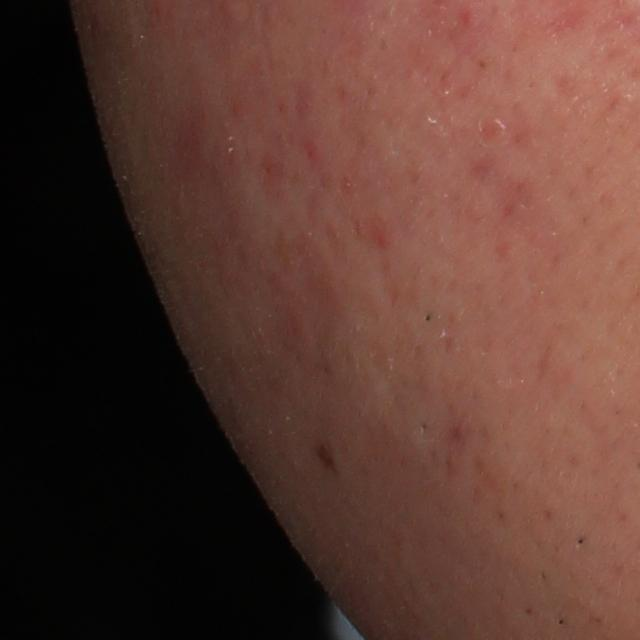nevus: (313, 437, 342, 474)
